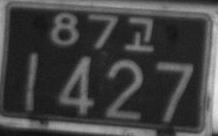1: (16, 52, 48, 111)
2: (106, 57, 145, 120)
4: (58, 55, 94, 114)
7: (156, 59, 194, 123), (87, 12, 119, 49)
8: (50, 10, 80, 47)
고: (124, 15, 154, 52)
